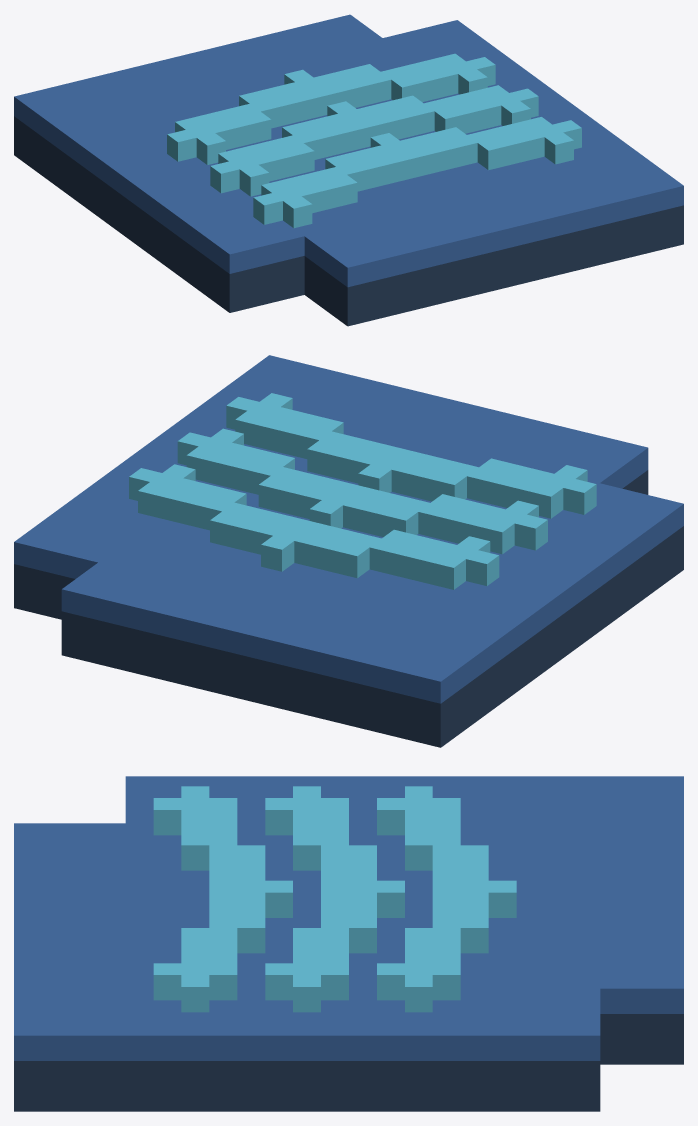
Rendered from voxel_32_70153.glb.
3 renders of one model, top to bottom at view 1: azimuth 30°, elevation 25°; view 2: azimuth 150°, elevation 25°; view 3: azimuth 270°, elevation 25°, orthographic. The views are drawn at different scales.
Visible parts, largest first — view 1: prop_70153; view 2: prop_70153; view 3: prop_70153.
Boxes of the visible parts, x1,y1,x2,y2 form: prop_70153: (14, 14, 683, 326); prop_70153: (14, 355, 683, 747); prop_70153: (14, 776, 683, 1111).
Bounding box in the file's own units: 0.5706 × 0.1037 × 0.6225.
